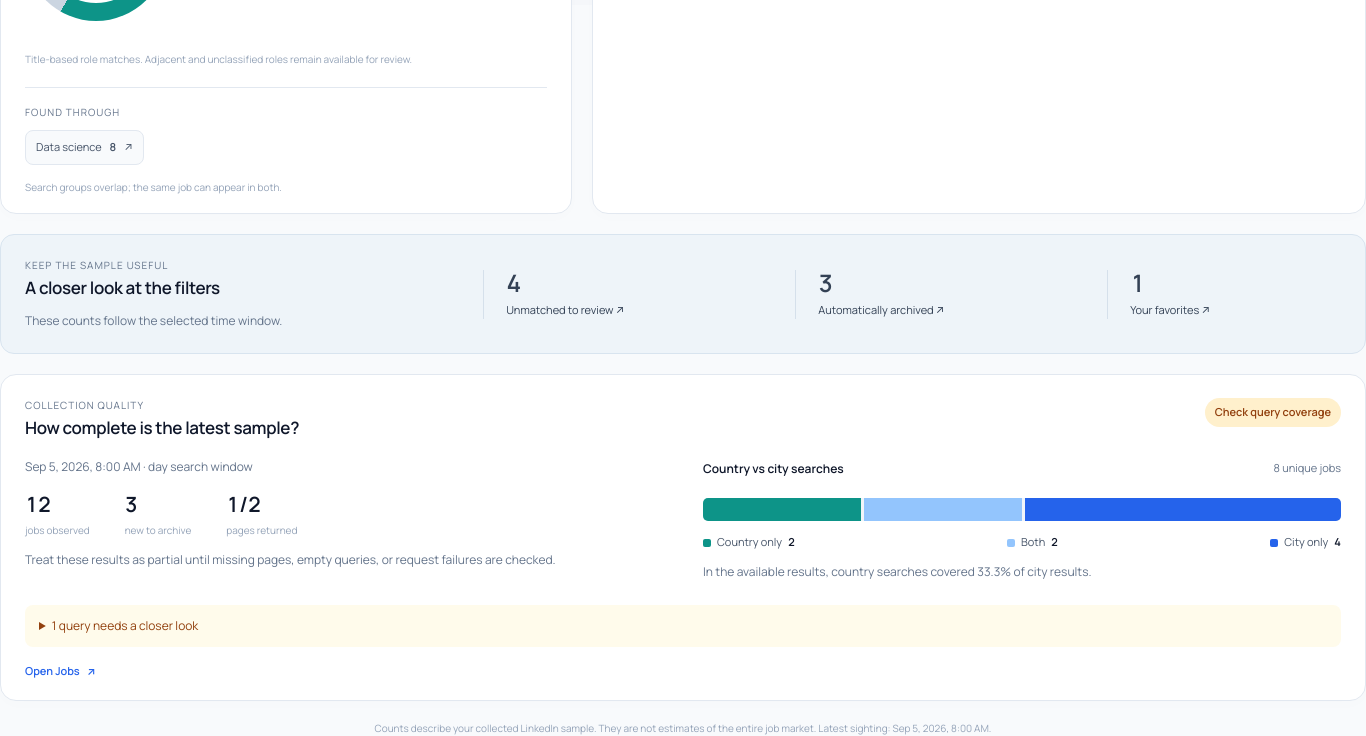
Test: Intelligence market overview › flags a succeeded run with empty or incomplete queries as partial coverage
(page scrolled)
Expected: the text "Check query coverage" is shown, [1205,398,1341,427]
Click the heading "1 query needs a closer look": {"x": 125, "y": 625} [52,617,198,634]
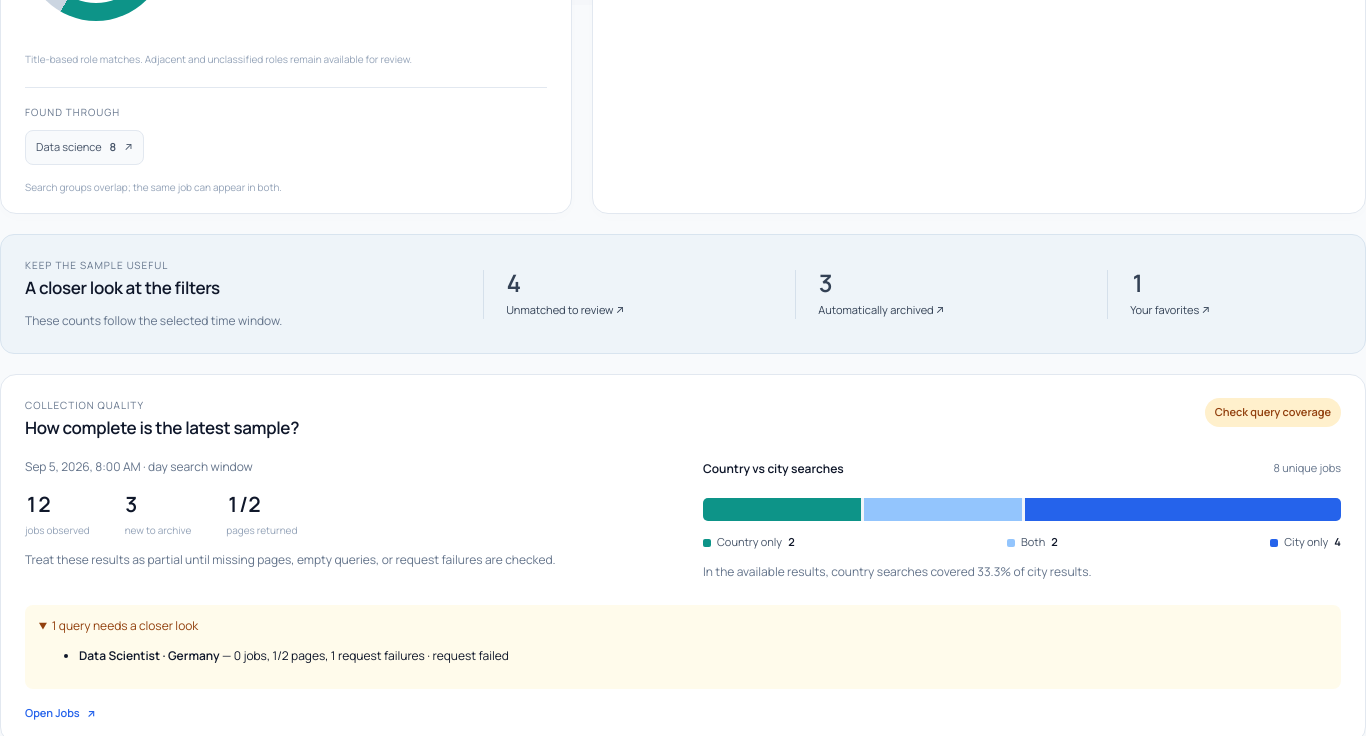
Expected: the list item "0 jobs, 1/2 pages, 1 request failures" is shown, [79,647,509,664]
